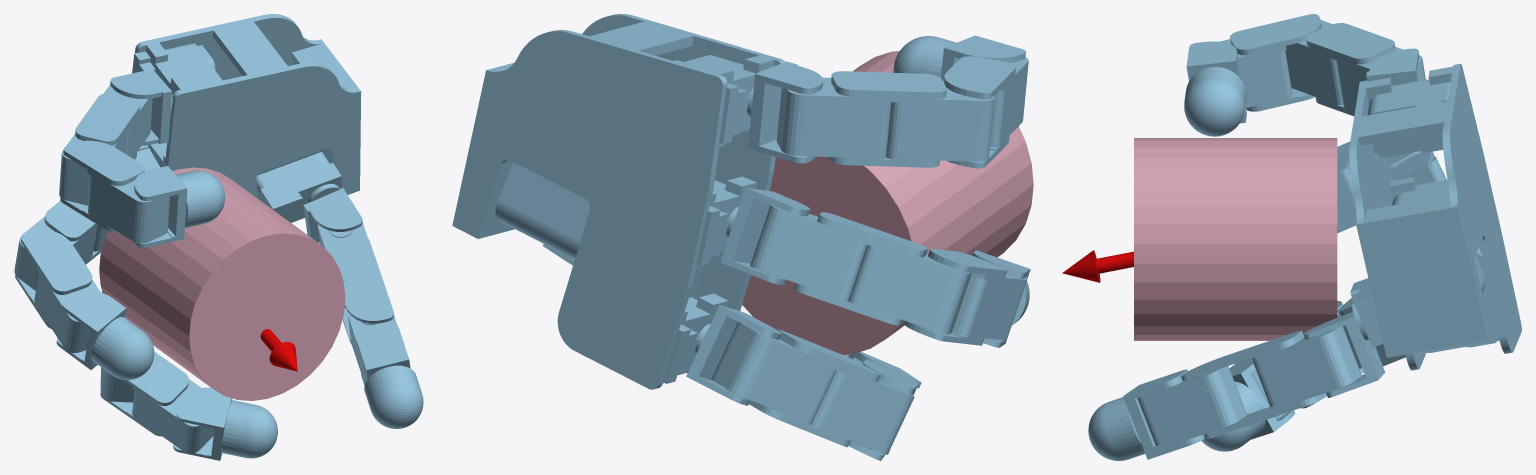
The picture shows the model from 3 angles, left to right: view 1: azimuth 30°, elevation 25°; view 2: azimuth 150°, elevation 25°; view 3: azimuth 270°, elevation 25°; orthographic projection. The views are drawn at different scales.
Visible parts, largest first — view 1: world, cylinder_medium.stl; view 2: world, cylinder_medium.stl; view 3: world, cylinder_medium.stl.
Part boxes in pixels (<box>): world: <box>14,14,423,460</box>; cylinder_medium.stl: <box>99,167,345,400</box>; world: <box>452,14,1030,460</box>; cylinder_medium.stl: <box>742,51,1033,354</box>; world: <box>1062,14,1521,460</box>; cylinder_medium.stl: <box>1134,138,1337,340</box>.
Bounding box in the file's own units: 0.1776 × 0.1692 × 0.181.
